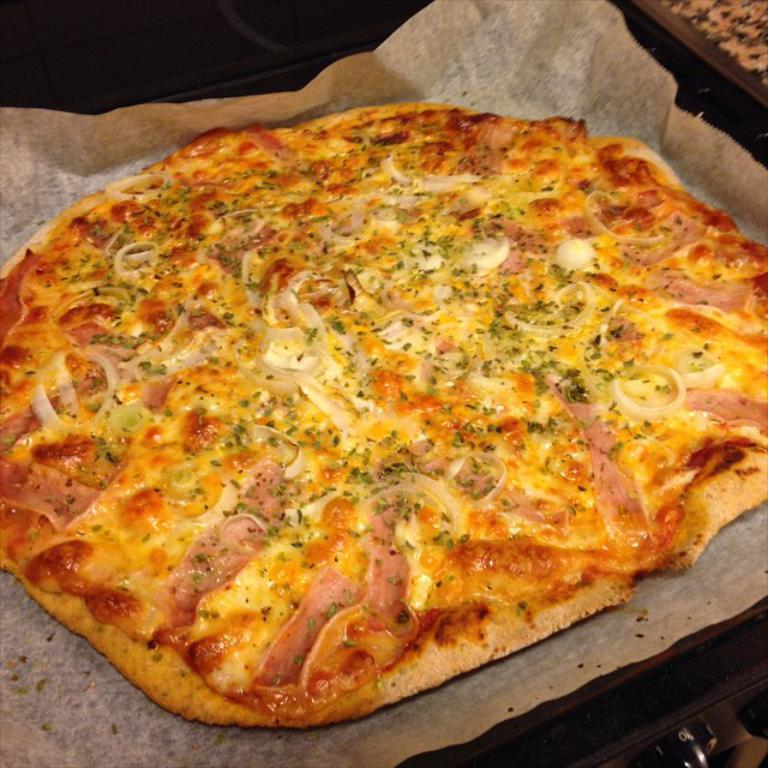Pizza: (0, 94, 760, 736)
